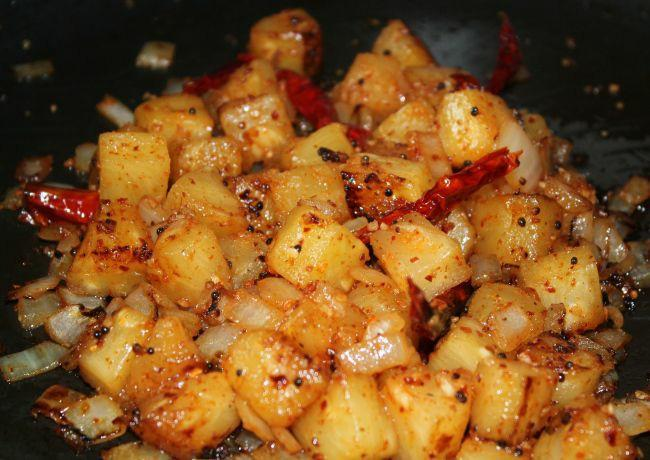AlooMasala: (0, 9, 650, 460)
